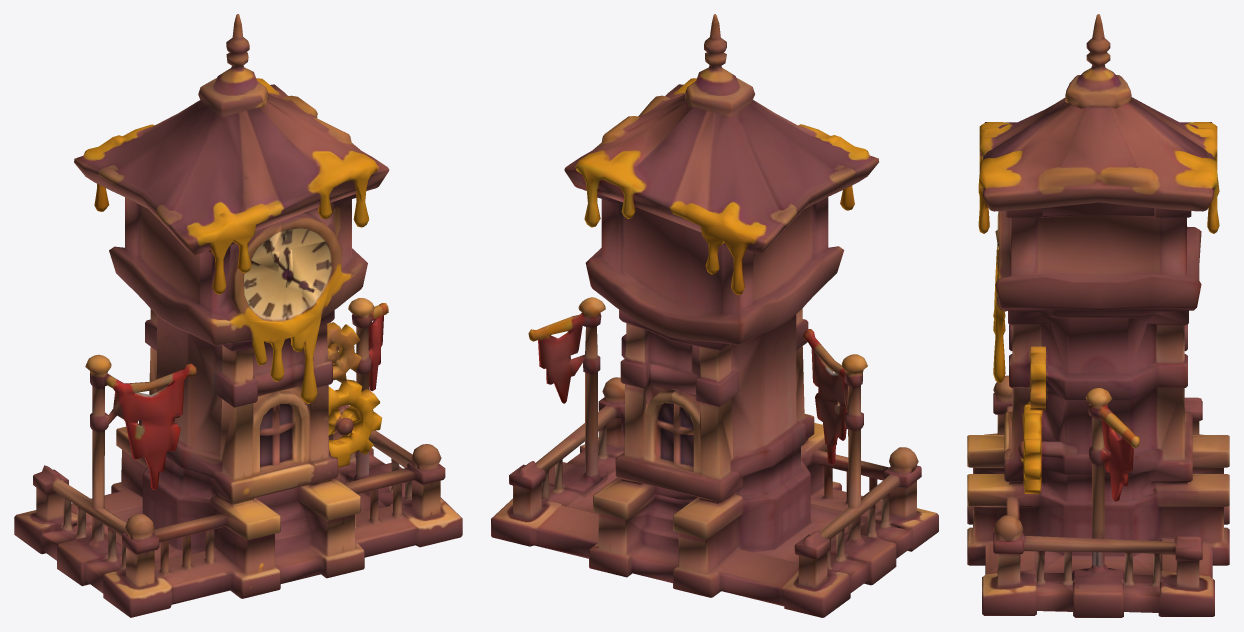
The model's file is Kit_ClockTower.fbx.
The picture shows the model from 3 angles, left to right: view 1: azimuth 30°, elevation 25°; view 2: azimuth 150°, elevation 25°; view 3: azimuth 270°, elevation 25°; orthographic projection.
Parts seen in each view (by area): view 1: tripo_node_7294260f; view 2: tripo_node_7294260f; view 3: tripo_node_7294260f.
Part boxes in pixels (x1,y1,x2,y2): tripo_node_7294260f: (14,14,462,617); tripo_node_7294260f: (491,14,938,617); tripo_node_7294260f: (967,14,1229,617).
Size of the model in its own units: 66.49 by 44.65 by 97.93.
Materials: 1 (1 with a texture image).
